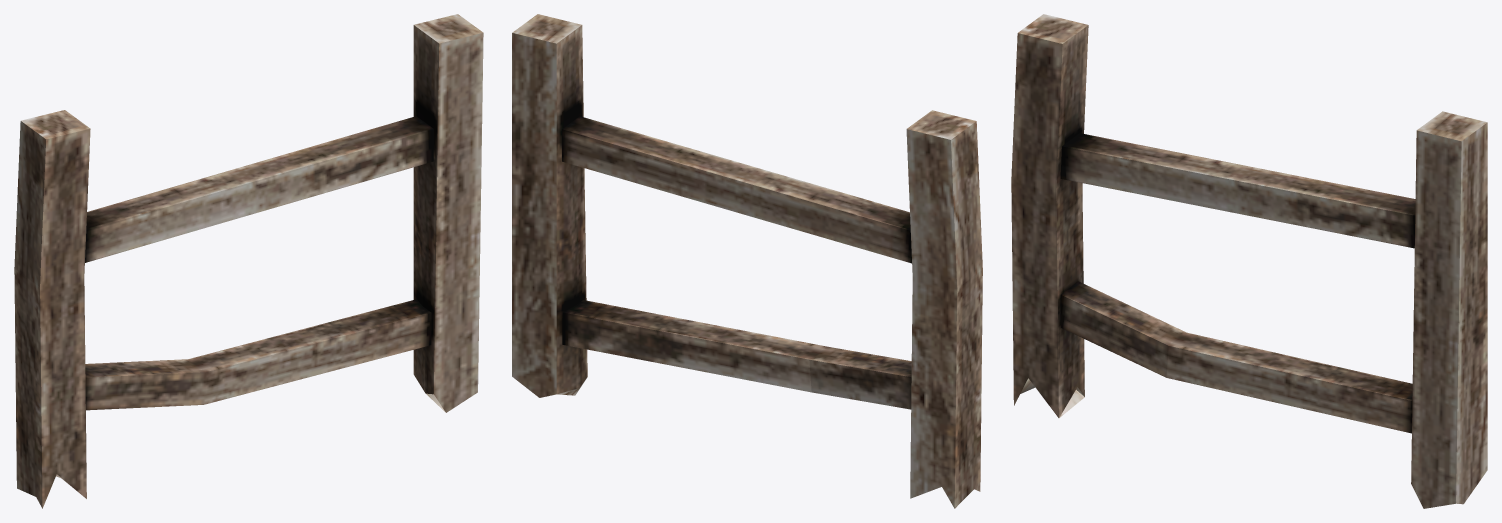
Rendered from ladder_broken.dae.
3 views of the same model, side by side, from view 1: azimuth 30°, elevation 25°; view 2: azimuth 150°, elevation 25°; view 3: azimuth 330°, elevation 25° (orthographic).
Visible parts, largest first — view 1: polySurface17; view 2: polySurface17; view 3: polySurface17.
Boxes of the visible parts, left/top/right/bottom form: polySurface17: left=14, top=14, right=483, bottom=508; polySurface17: left=512, top=14, right=982, bottom=508; polySurface17: left=1011, top=14, right=1487, bottom=508.
Bounding box in the file's own units: 1 × 0.7998 × 0.1215.
